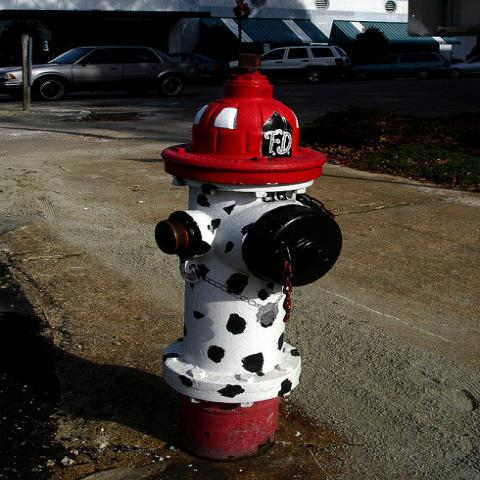car: (0, 42, 188, 106), (232, 45, 351, 84), (350, 52, 450, 82), (446, 54, 479, 79)
